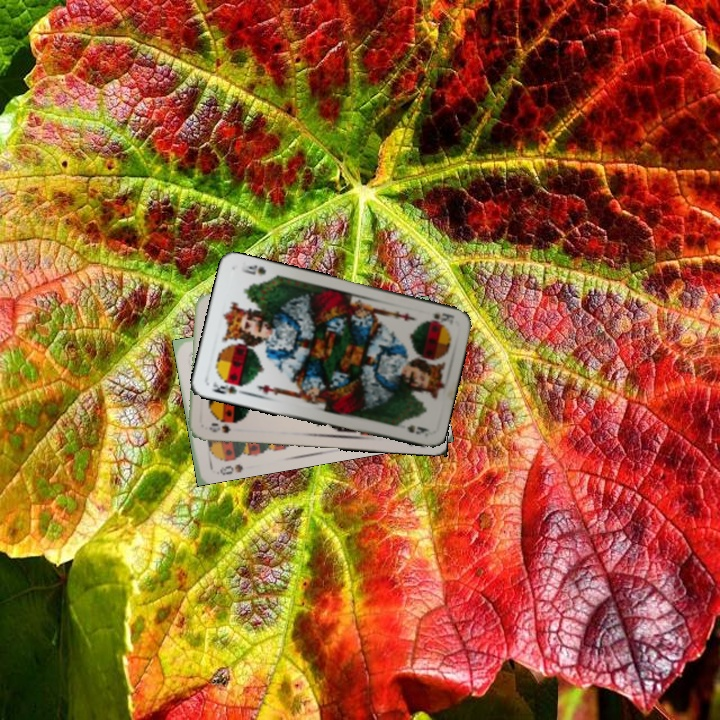S8: (215, 460, 245, 477)
SK: (207, 377, 245, 397), (421, 309, 457, 327)
SO: (205, 418, 239, 435)
